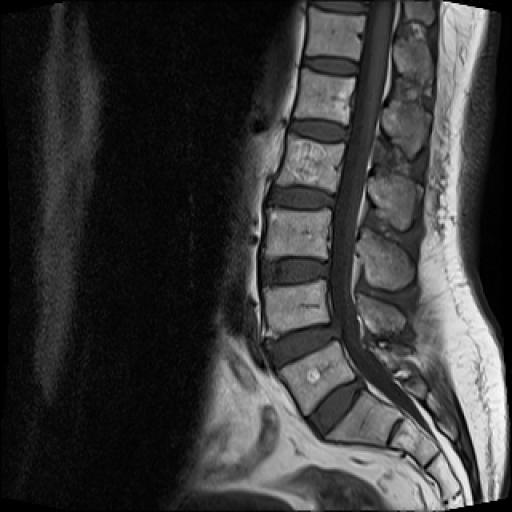L1: (294, 68, 355, 124)
L2: (276, 134, 345, 194)
L3: (268, 209, 330, 260)
L4: (264, 280, 330, 334)
L5: (278, 341, 355, 416)
S1: (326, 391, 401, 446)
